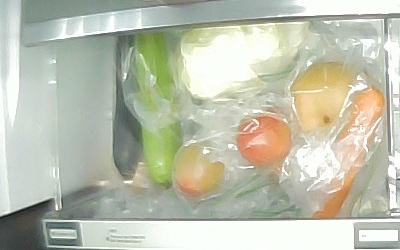cabbage_vinyl: (181, 23, 307, 98)
carrot_vinyl: (309, 86, 384, 219)
cucumber_vinyl: (112, 37, 142, 181)
pear_vinyl: (292, 61, 368, 143)
tomato_vinyl: (235, 111, 296, 170), (173, 145, 228, 199)
zucchini_vinyl: (138, 33, 187, 191)
